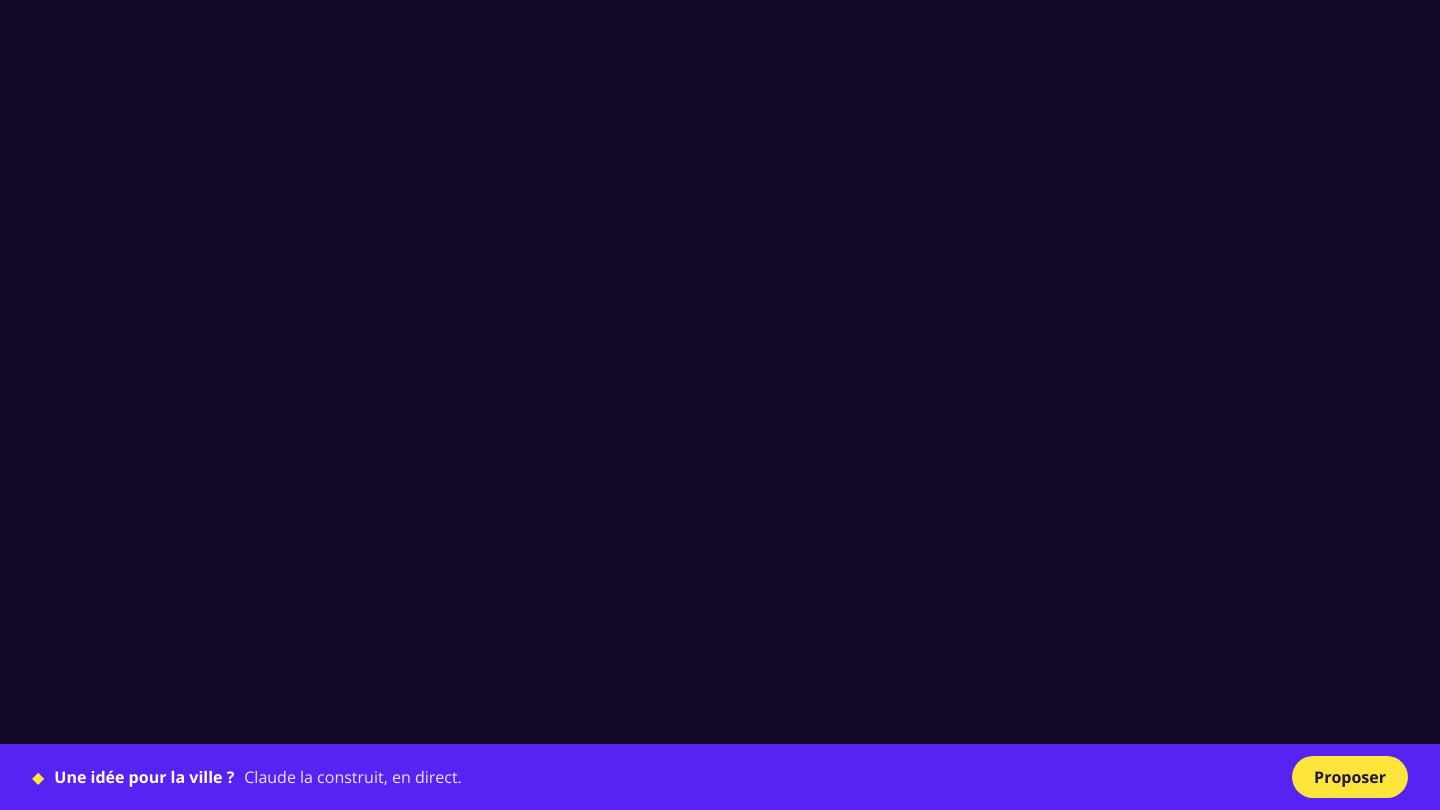
IdeaBanner › affiche l'erreur renvoyée par le serveur
Click the button "Proposer" at point(1350, 777), box [1292,756,1408,798]
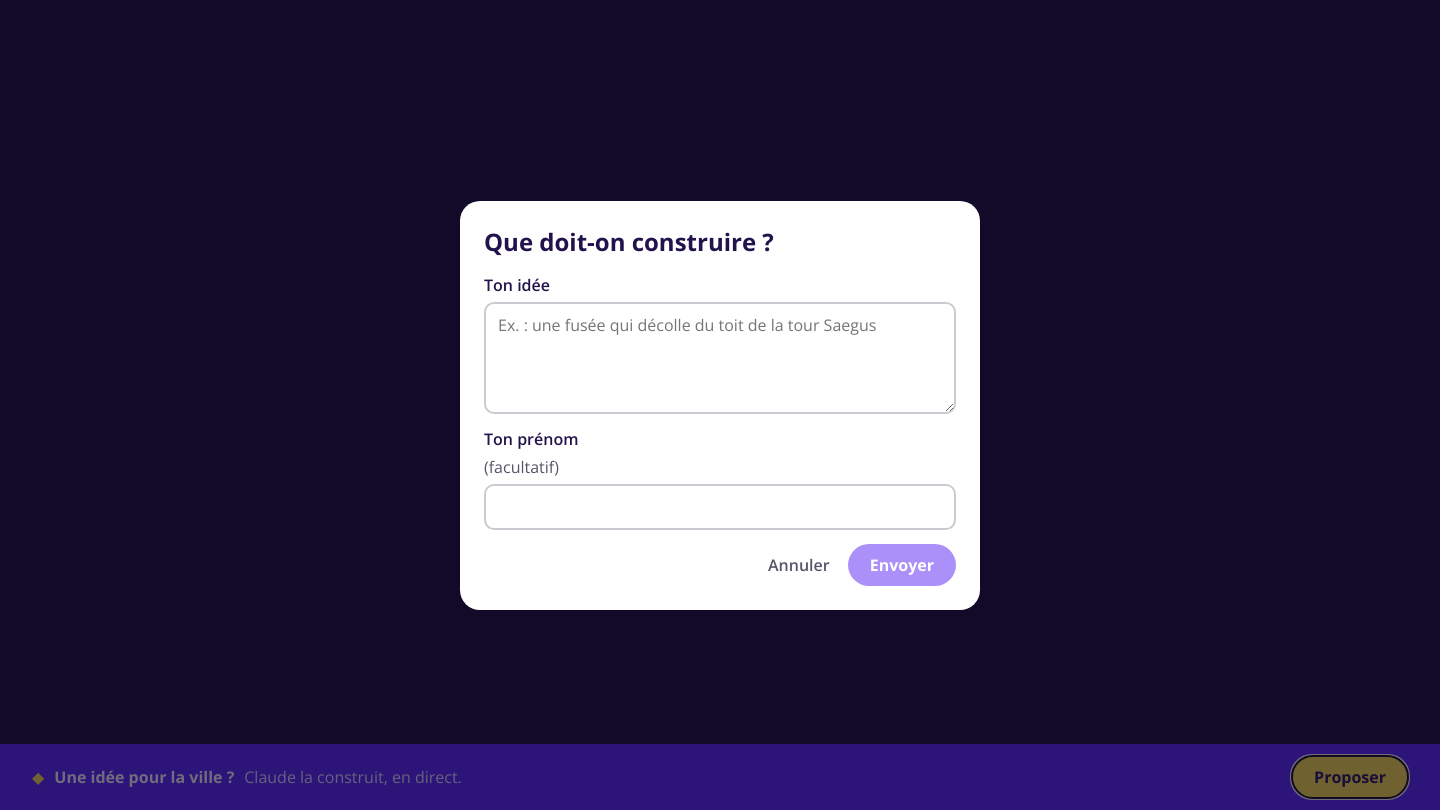
Type "Une fusée qui décolle de la tour" into the text box labelled "Ton idée" at point(720, 358), box [484,302,956,414]
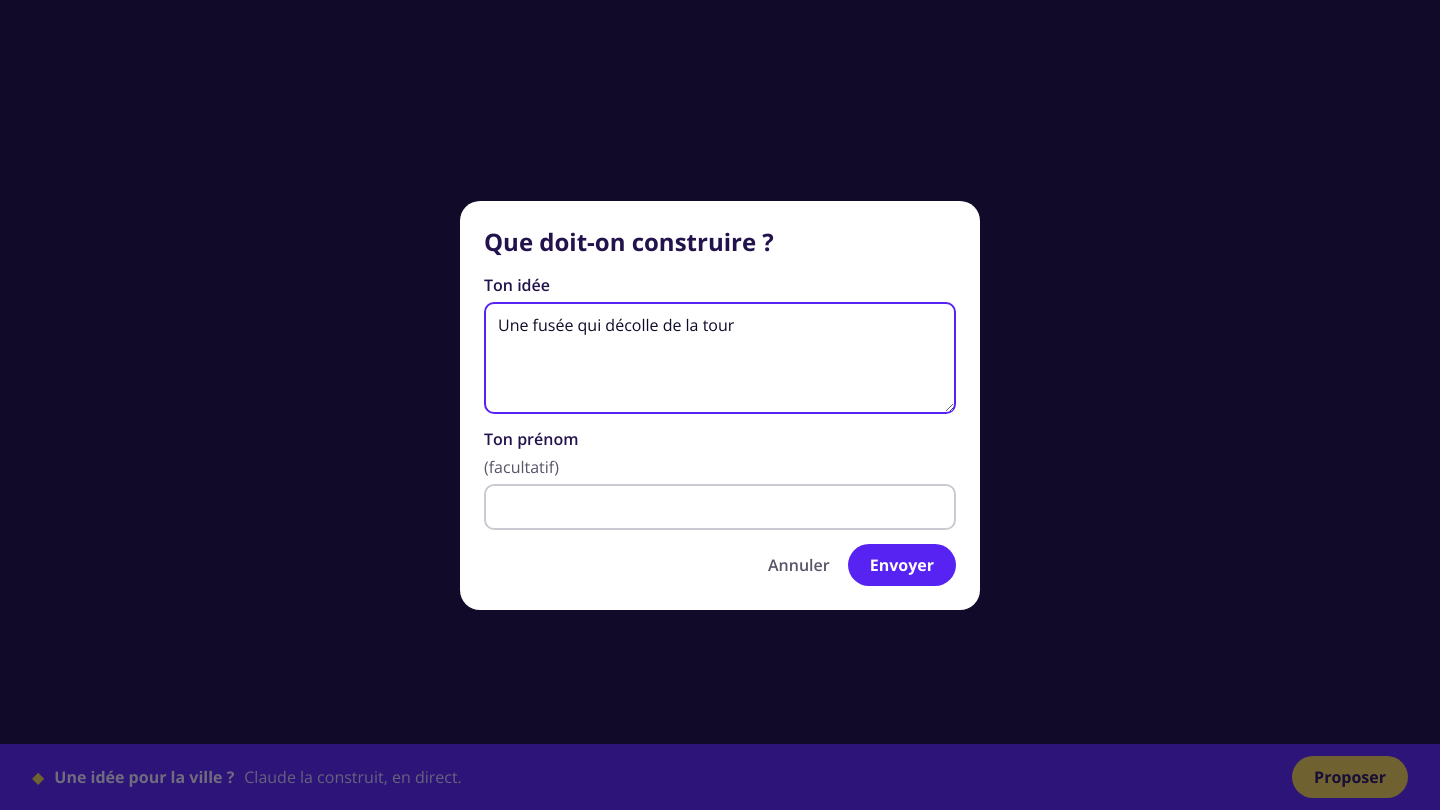
Click the button "Envoyer" at point(902, 564), box [848,544,956,586]
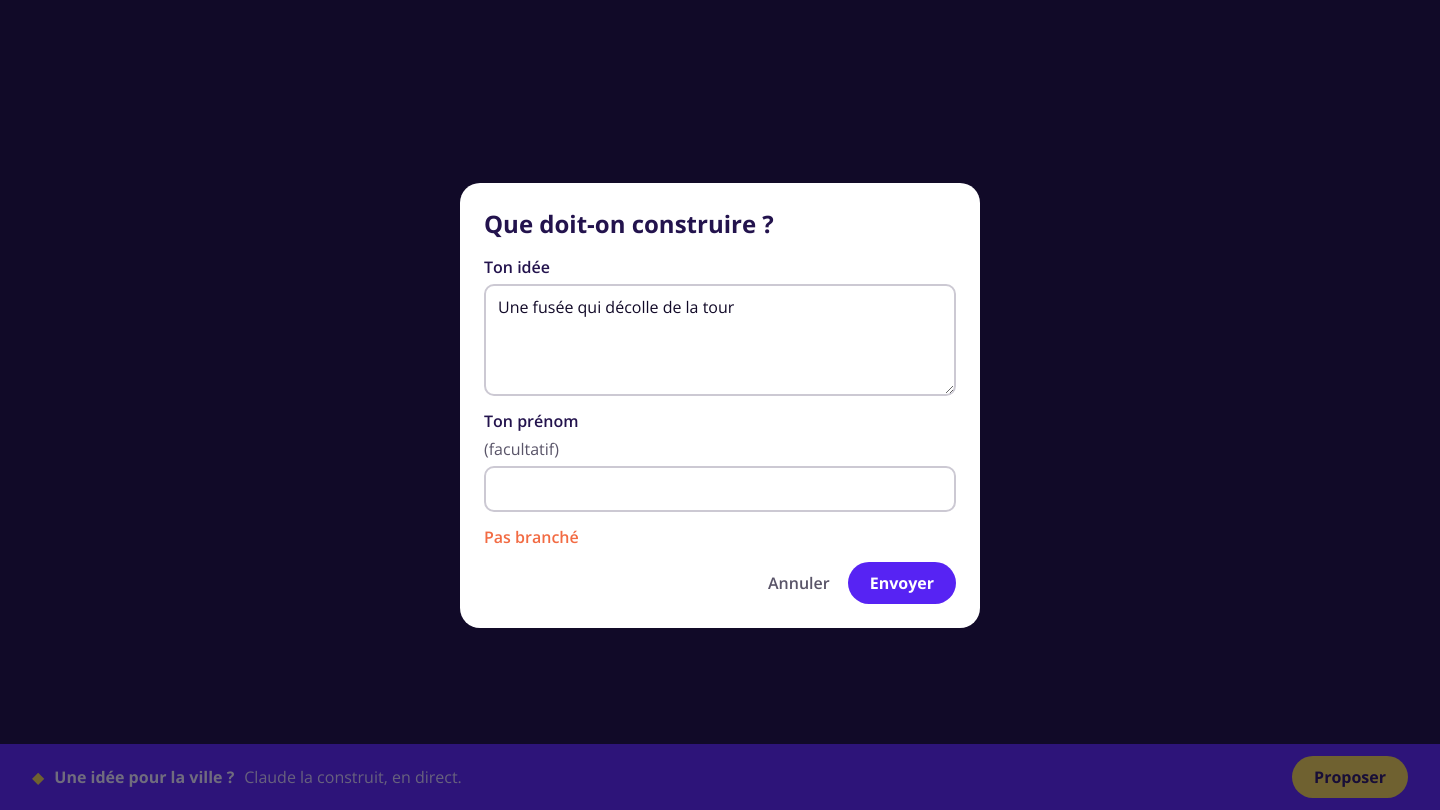
Result: the message reads "Pas branché" at [484,526,579,548]
